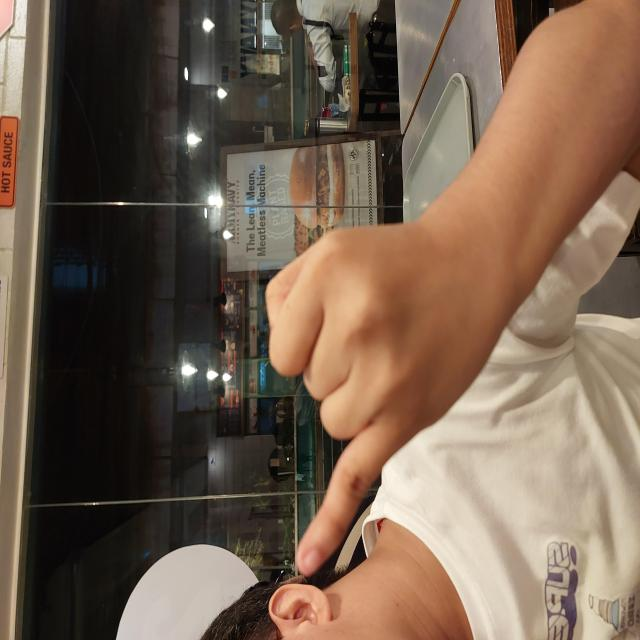J: (61, 264, 424, 491)
